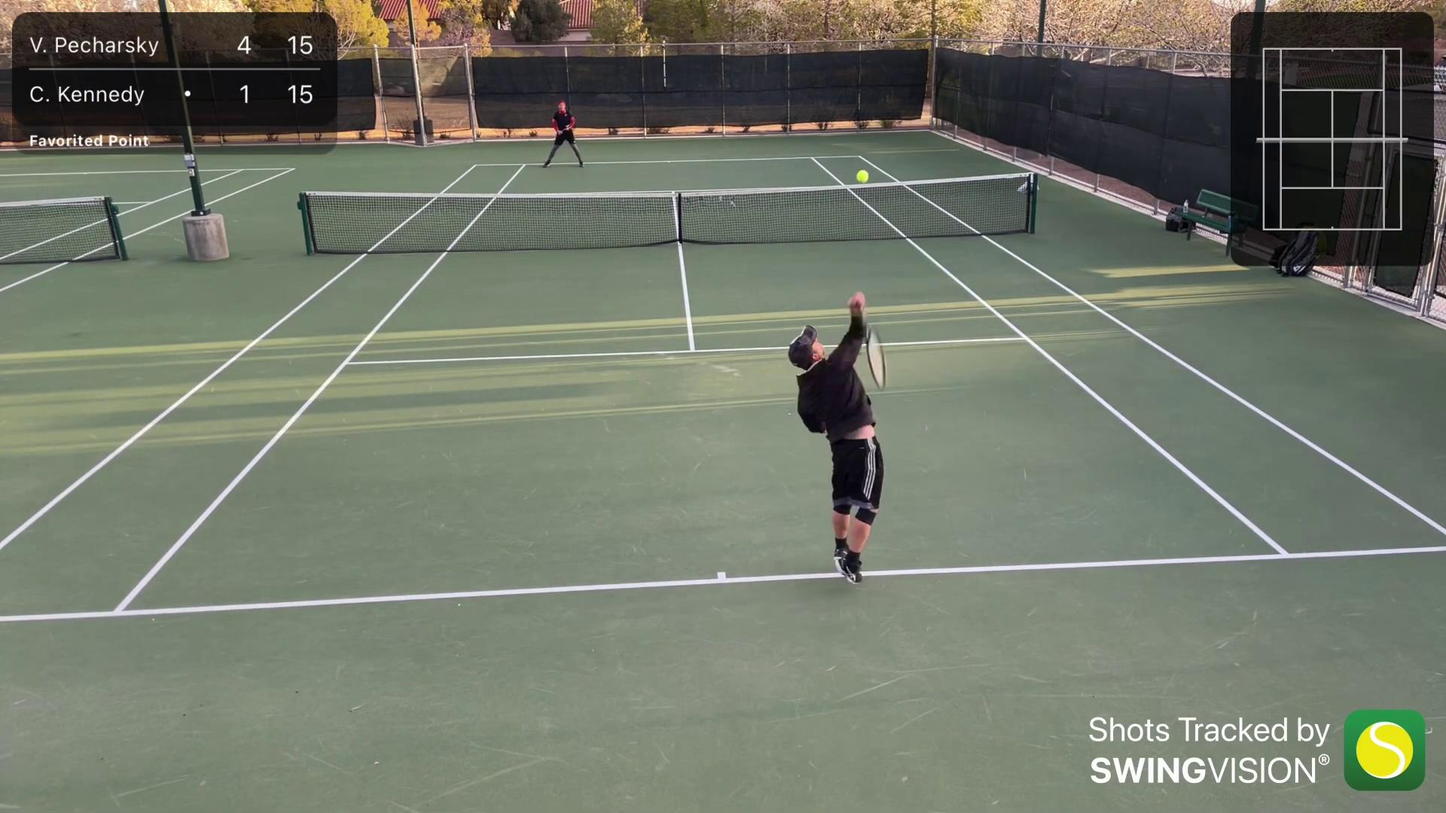ball: (854, 168, 871, 184), (872, 417, 876, 420)
